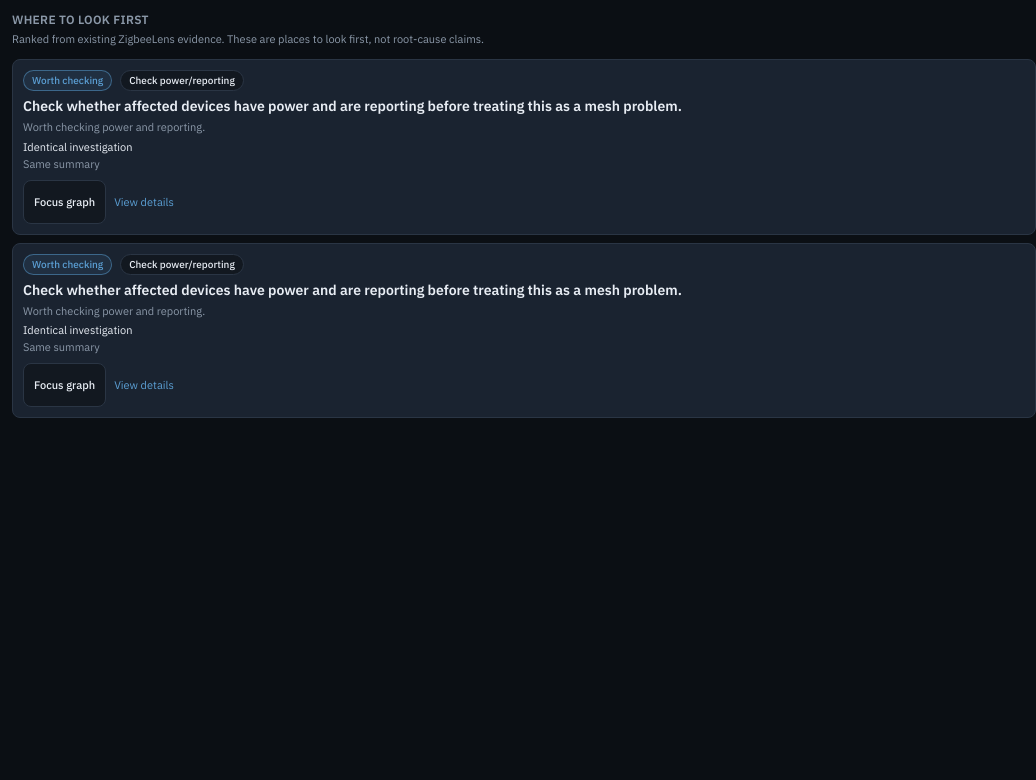
Scenario: InvestigationPanel accessible action names › keeps completely identical cards operable with ordinal accessible names
Expected: the 1st button "Focus graph" is shown, 23,180 -> 106,224
Expected: the text "Identical investigation" is shown 2 times, 23,140 -> 132,154; 23,323 -> 132,337
Click the 2nd button "Focus graph".
click(65, 385)  # box 23,363 -> 106,407
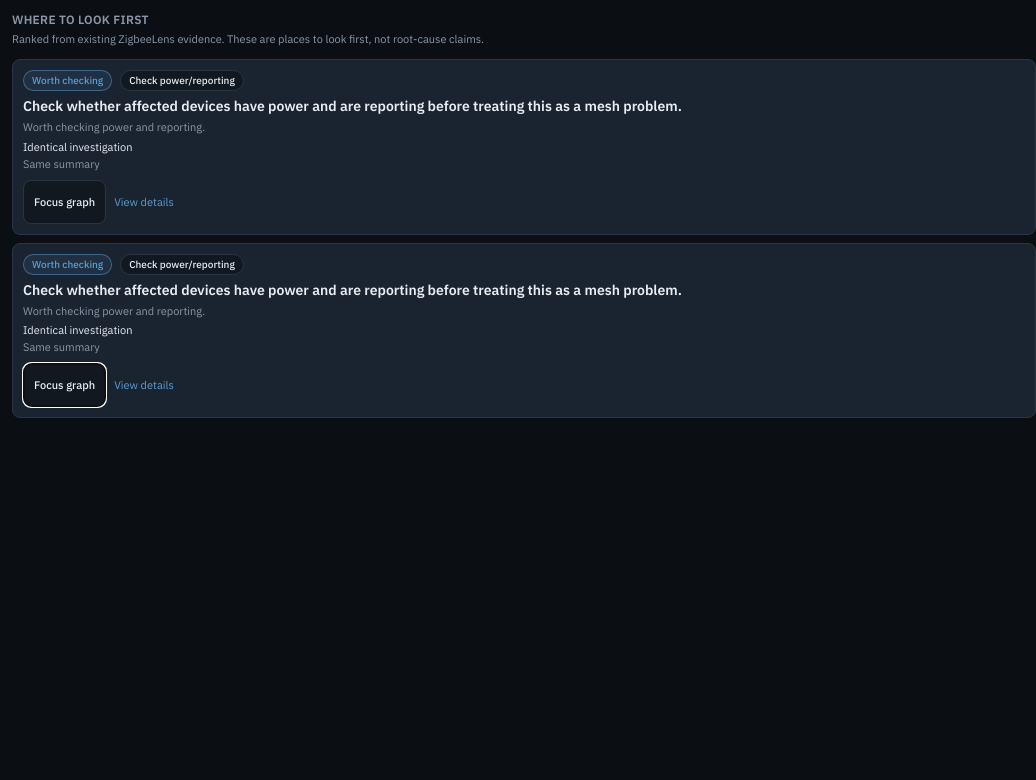
Click the 1st button "View details".
click(144, 202)  # box 114,180 -> 174,224
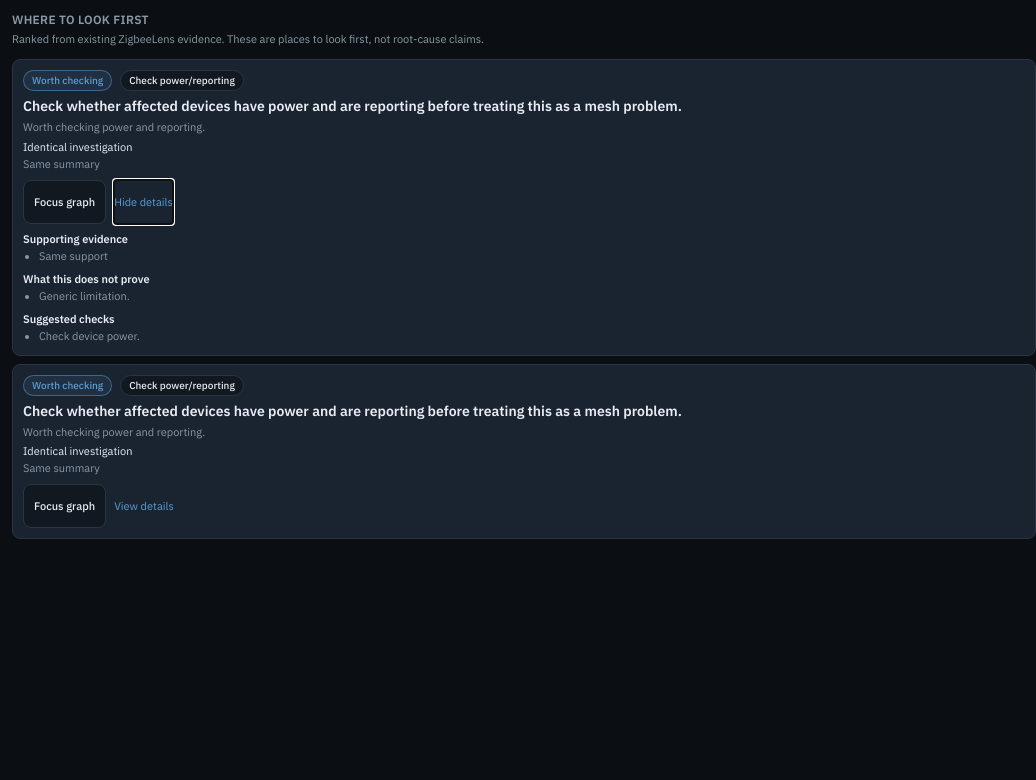
Result: the button "Hide details" is expanded at 114,180 -> 173,224
